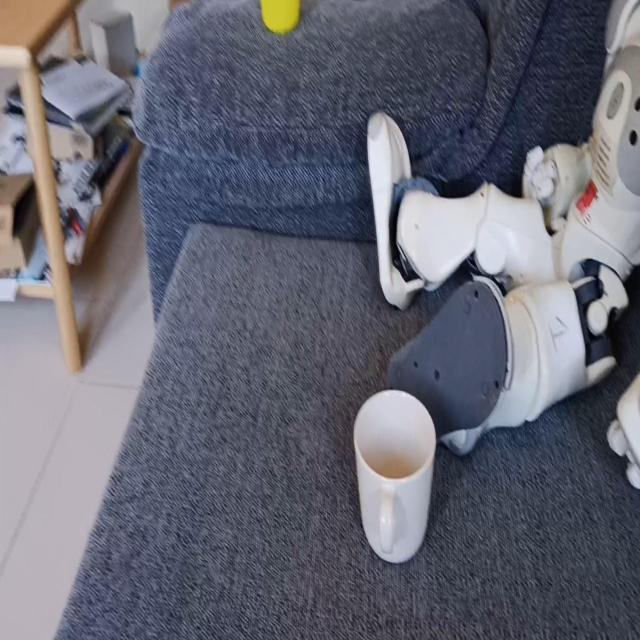cup: (350, 380, 438, 572)
